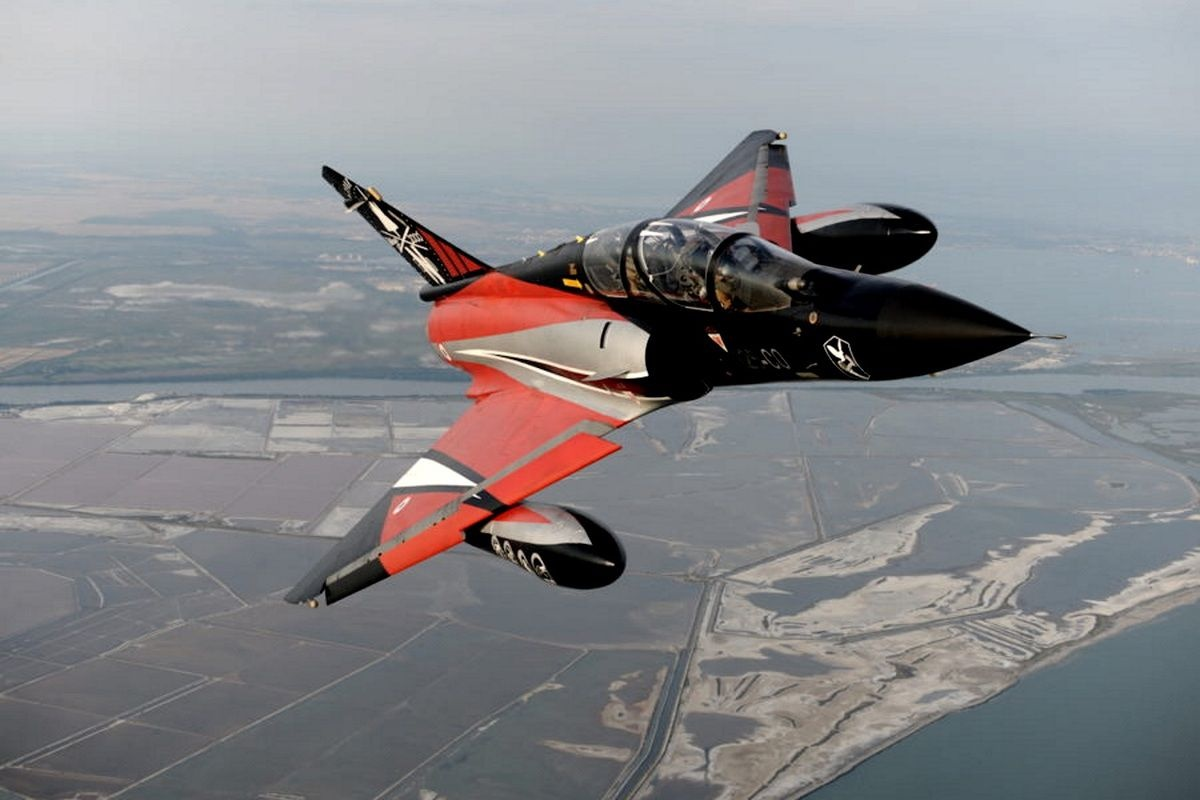Mirage2000: (283, 128, 1068, 609)
